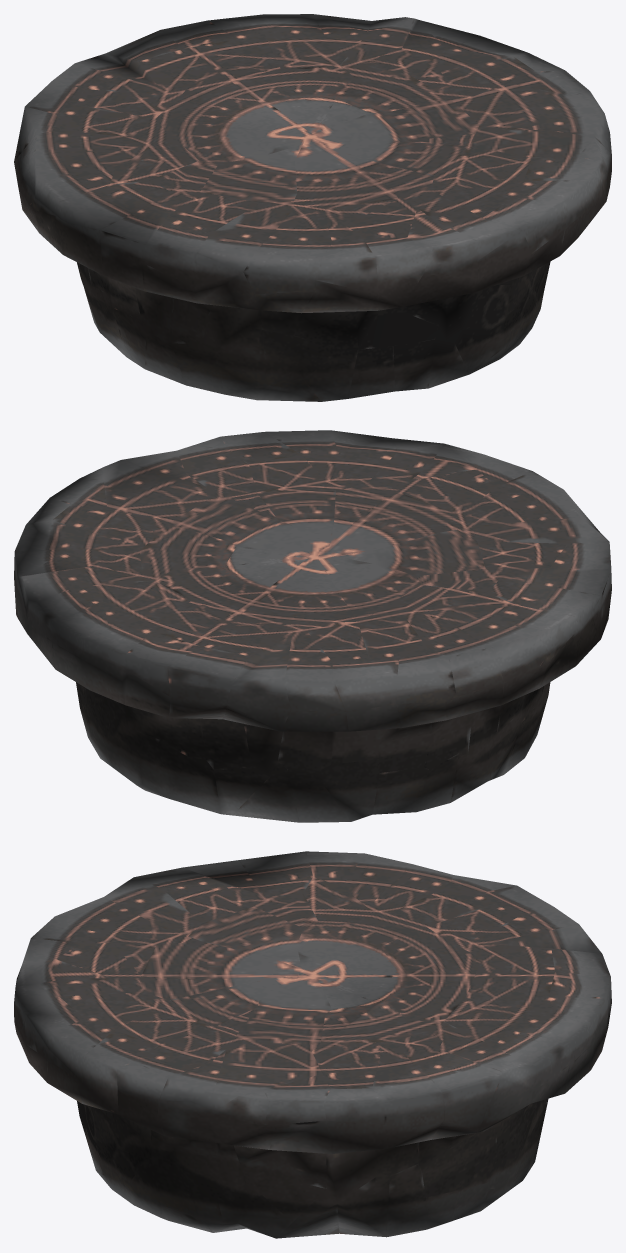
The model's file is ritual_circle_large.glb.
3 renders of one model, top to bottom at view 1: azimuth 30°, elevation 25°; view 2: azimuth 150°, elevation 25°; view 3: azimuth 270°, elevation 25°, orthographic.
Size of the model in its own units: 2 by 0.6492 by 2.
1 material, 1 textured.
